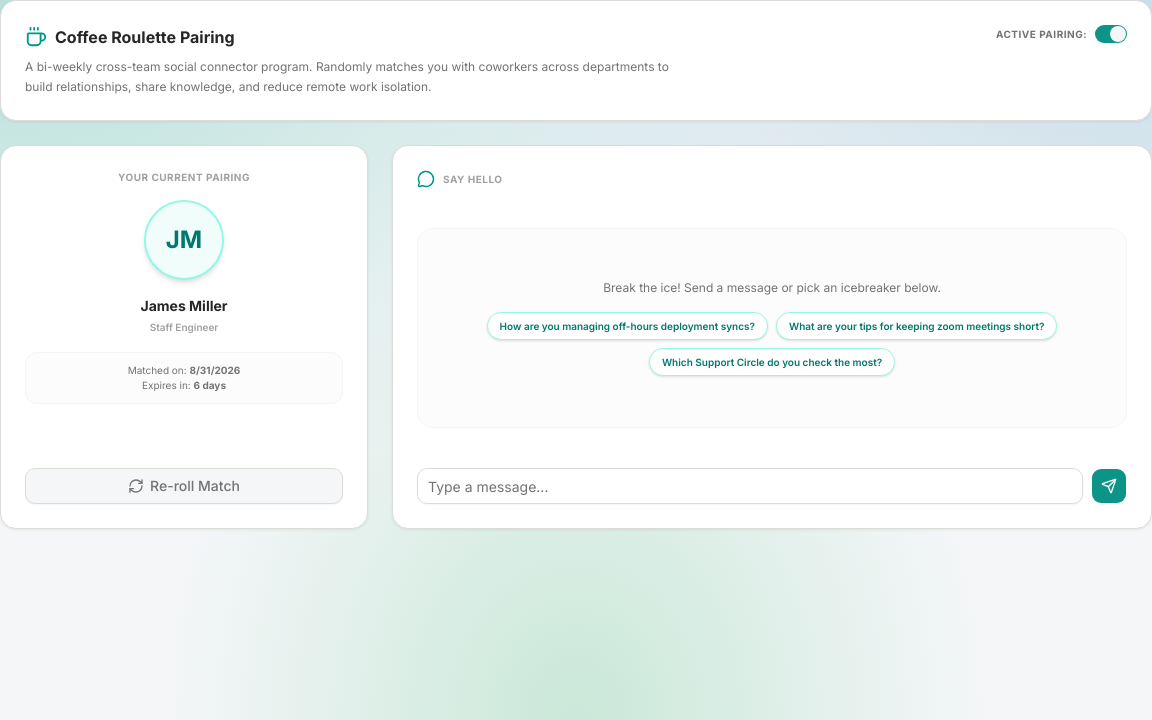
Scenario: CoffeeRoulette › toggling the switch off pauses pairing and persists to localStorage
Expected: the heading "James Miller" is shown, [140,297,228,314]
Click the switch. click: (1111, 34)
box: [1095,25,1127,43]
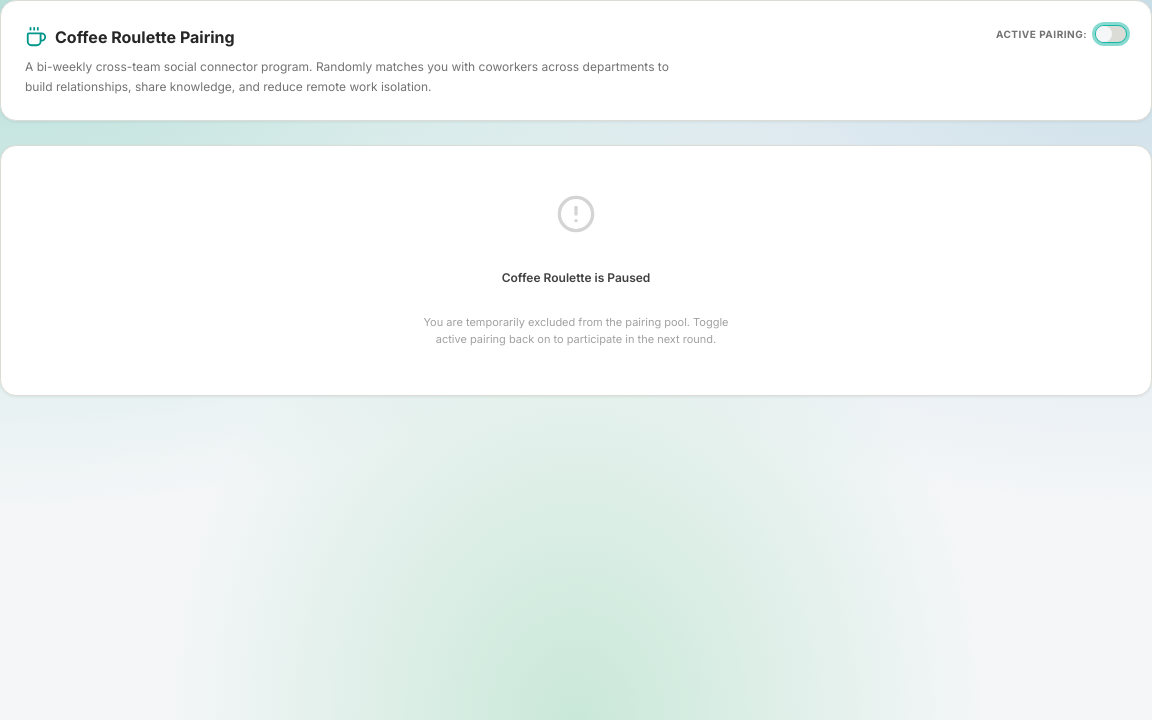
Now the text "Coffee Roulette is Paused" is shown, box [502,270,650,285]
